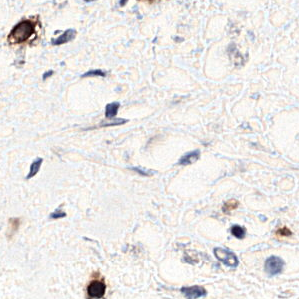Lymphocyte: (7, 20, 38, 45)
